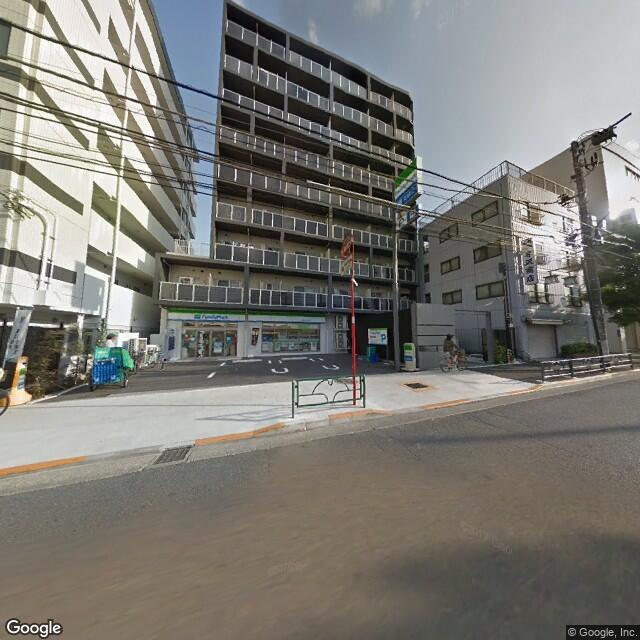family_mart: (163, 302, 327, 328), (392, 158, 421, 204), (400, 338, 417, 364)
